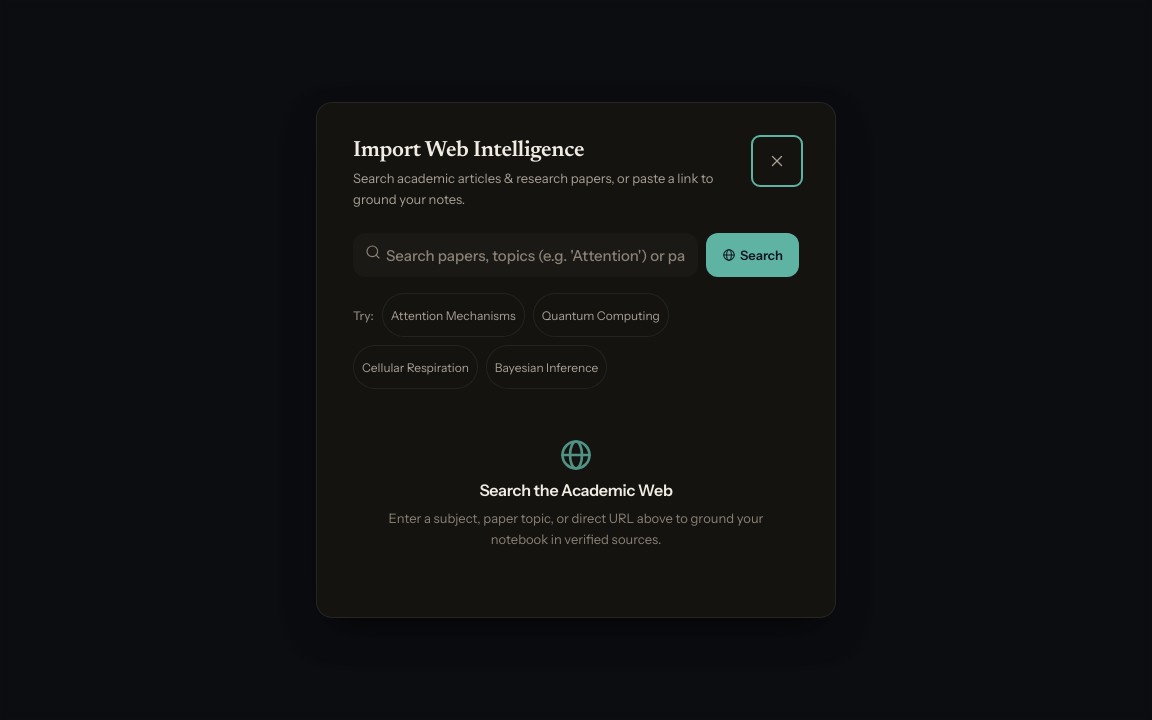
Test: WebSourceImportModal › recognizes direct URL paste and renders preview card
Type "https://nature.com/articles/quantum-info" into the field named "Search articles and papers or paste URL".
click(526, 256); type("https://nature.com/articles/quantum-info")  # box [353,234,698,278]
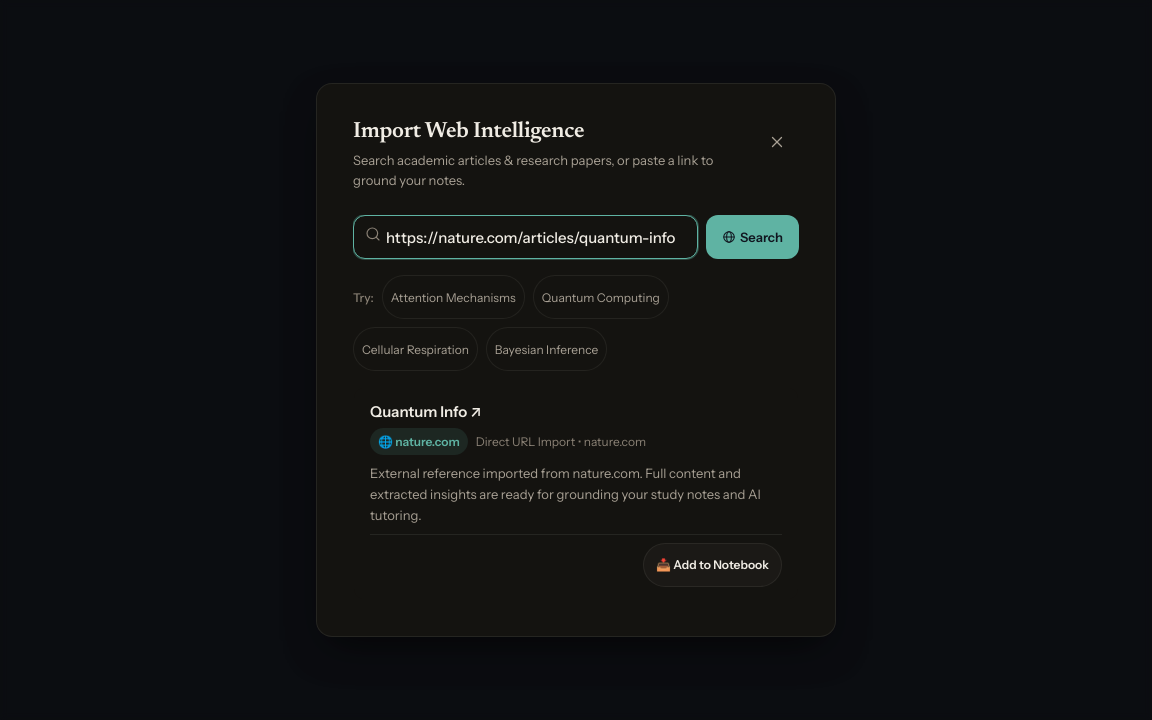
Check: the link "Quantum Info ↗" is shown, box [370,402,482,421]
Check: the text "🌐 nature.com" is shown, box [370,428,468,455]
Check: the text "External reference imported from nature.com" is shown, box [370,465,761,523]
